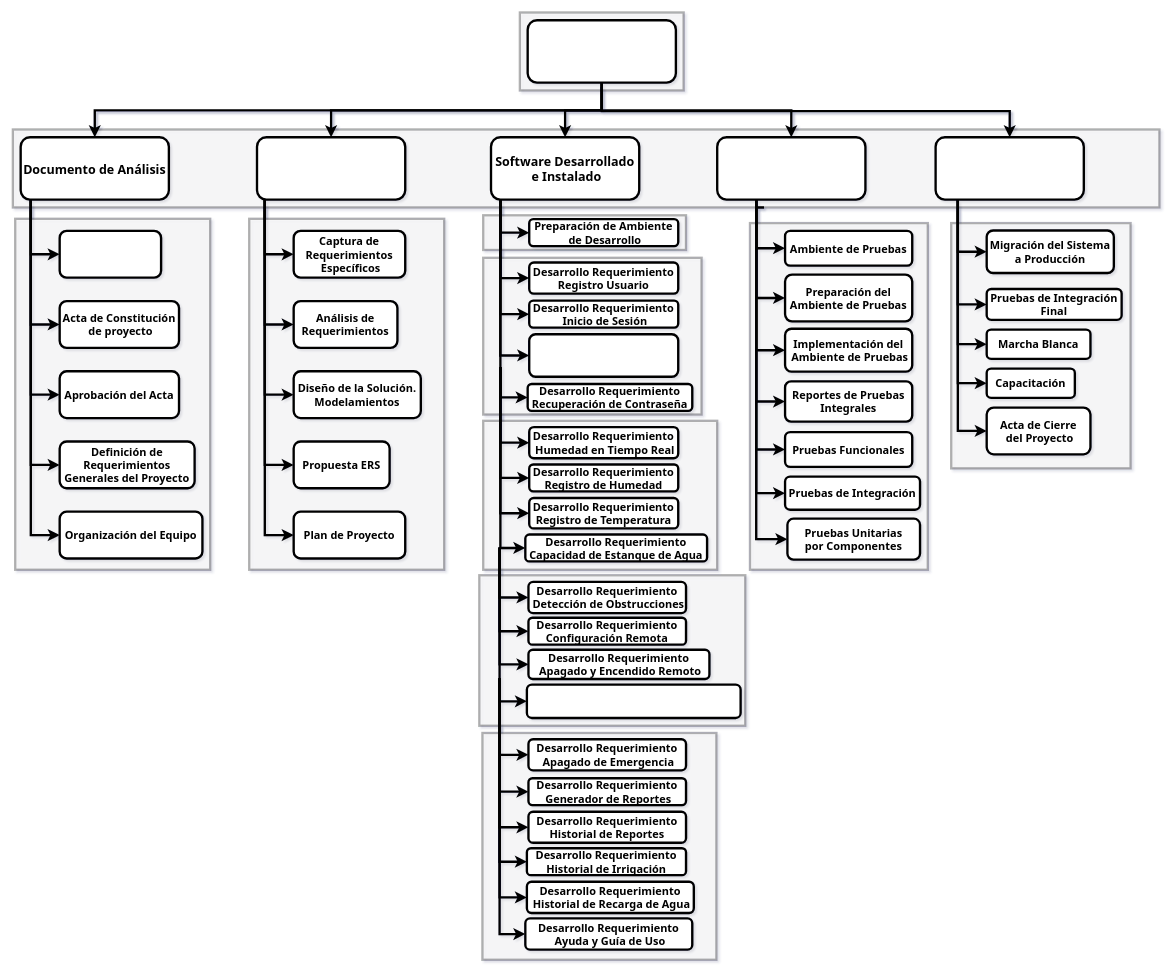
This 1172x973 diagram has some shape labels left out. The centre of each missing label's shape, as x and y in pixels:
Desarrollo Requerimiento Autenticación de Inicio de Sesión: the point at 603,355
Desarrollo Requerimiento Integración y Eliminación de Sensores: the point at 633,701
Documento de Diseño: the point at 330,168
Documento de Entrega a Operaciones: the point at 1009,168
Kick Off: the point at 110,253
Proyecto SINH2O: the point at 601,51
Reportes de Prueba: the point at 791,168
